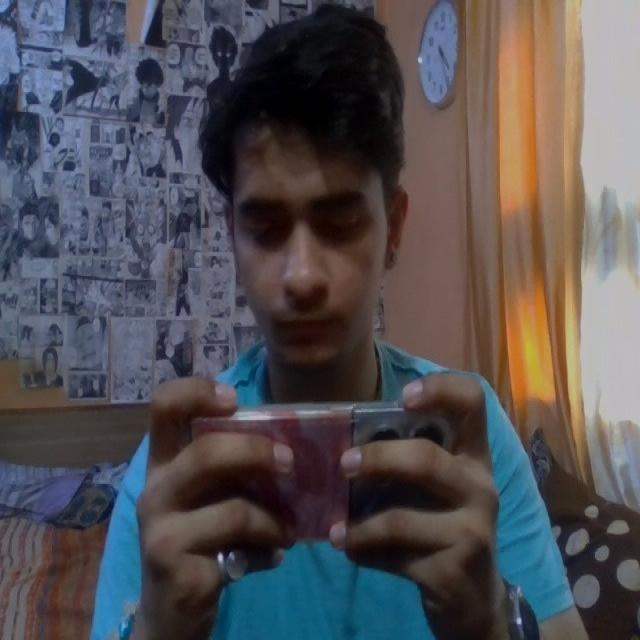phone: (96, 9, 588, 640), (189, 404, 457, 554)
